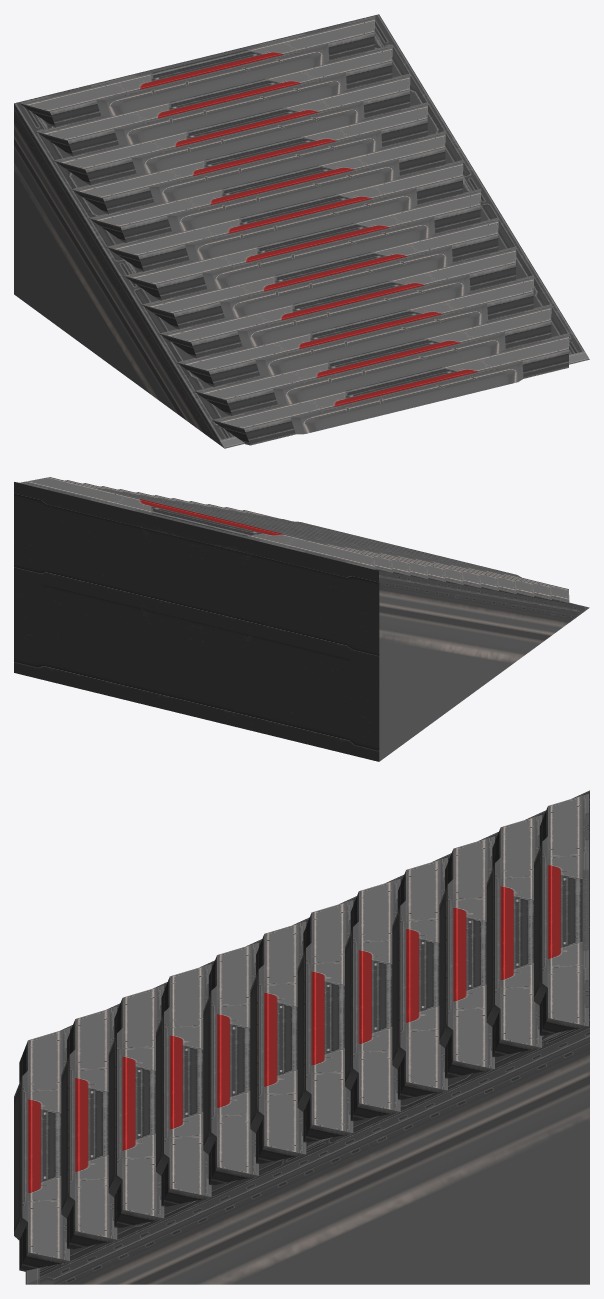
The model's file is platform_stairs_4_wide.glb.
The picture shows the model from 3 angles, top to bottom: view 1: azimuth 30°, elevation 25°; view 2: azimuth 150°, elevation 25°; view 3: azimuth 270°, elevation 25°; orthographic projection. The views are drawn at different scales.
Visible parts, largest first — view 1: Platform_Stairs_4Wide; view 2: Platform_Stairs_4Wide; view 3: Platform_Stairs_4Wide.
Part boxes in pixels (x1,y1,x2,y2): Platform_Stairs_4Wide: (14, 14, 589, 448); Platform_Stairs_4Wide: (14, 477, 589, 761); Platform_Stairs_4Wide: (14, 790, 589, 1284).
Bounding box in the file's own units: 4 × 2.01 × 4.08.
Materials: 2 (2 with a texture image).
